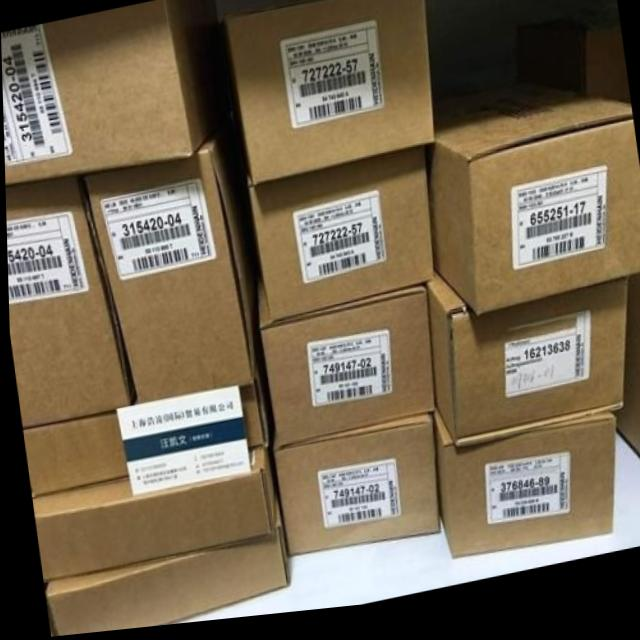box: (425, 92, 640, 326), (79, 124, 257, 405), (214, 0, 433, 190), (1, 0, 218, 184), (423, 274, 627, 457), (41, 496, 285, 637), (254, 263, 432, 449), (4, 174, 134, 428), (29, 451, 273, 583), (246, 154, 432, 327), (432, 420, 614, 567), (269, 422, 438, 561), (21, 416, 125, 497), (611, 287, 640, 475), (567, 36, 630, 117), (236, 370, 269, 452)
